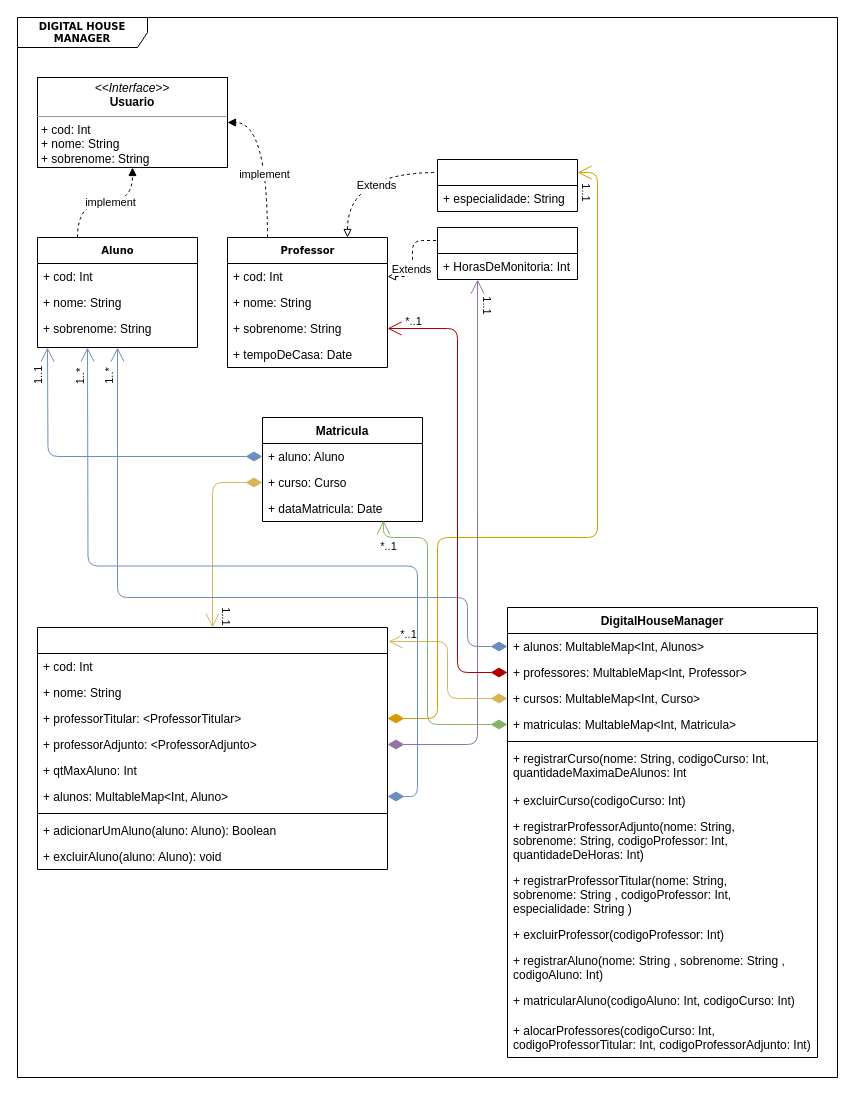
Image size: 855x1095. Some labels were removed from this diagram. Here are the shapes that lost their labels. From the top down, the box of each, then its label:
(436, 158, 578, 212): ProfessorTitular
(436, 226, 578, 280): ProfessorAdjunto
(36, 626, 388, 870): Curso
